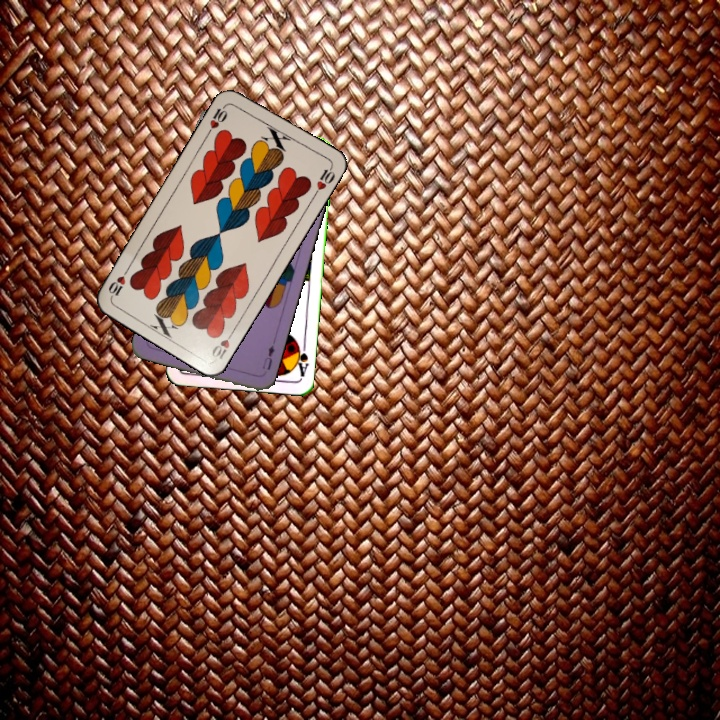EU: (258, 338, 278, 373)
H10: (207, 325, 238, 363), (203, 100, 230, 137)
SA: (290, 338, 311, 379)
